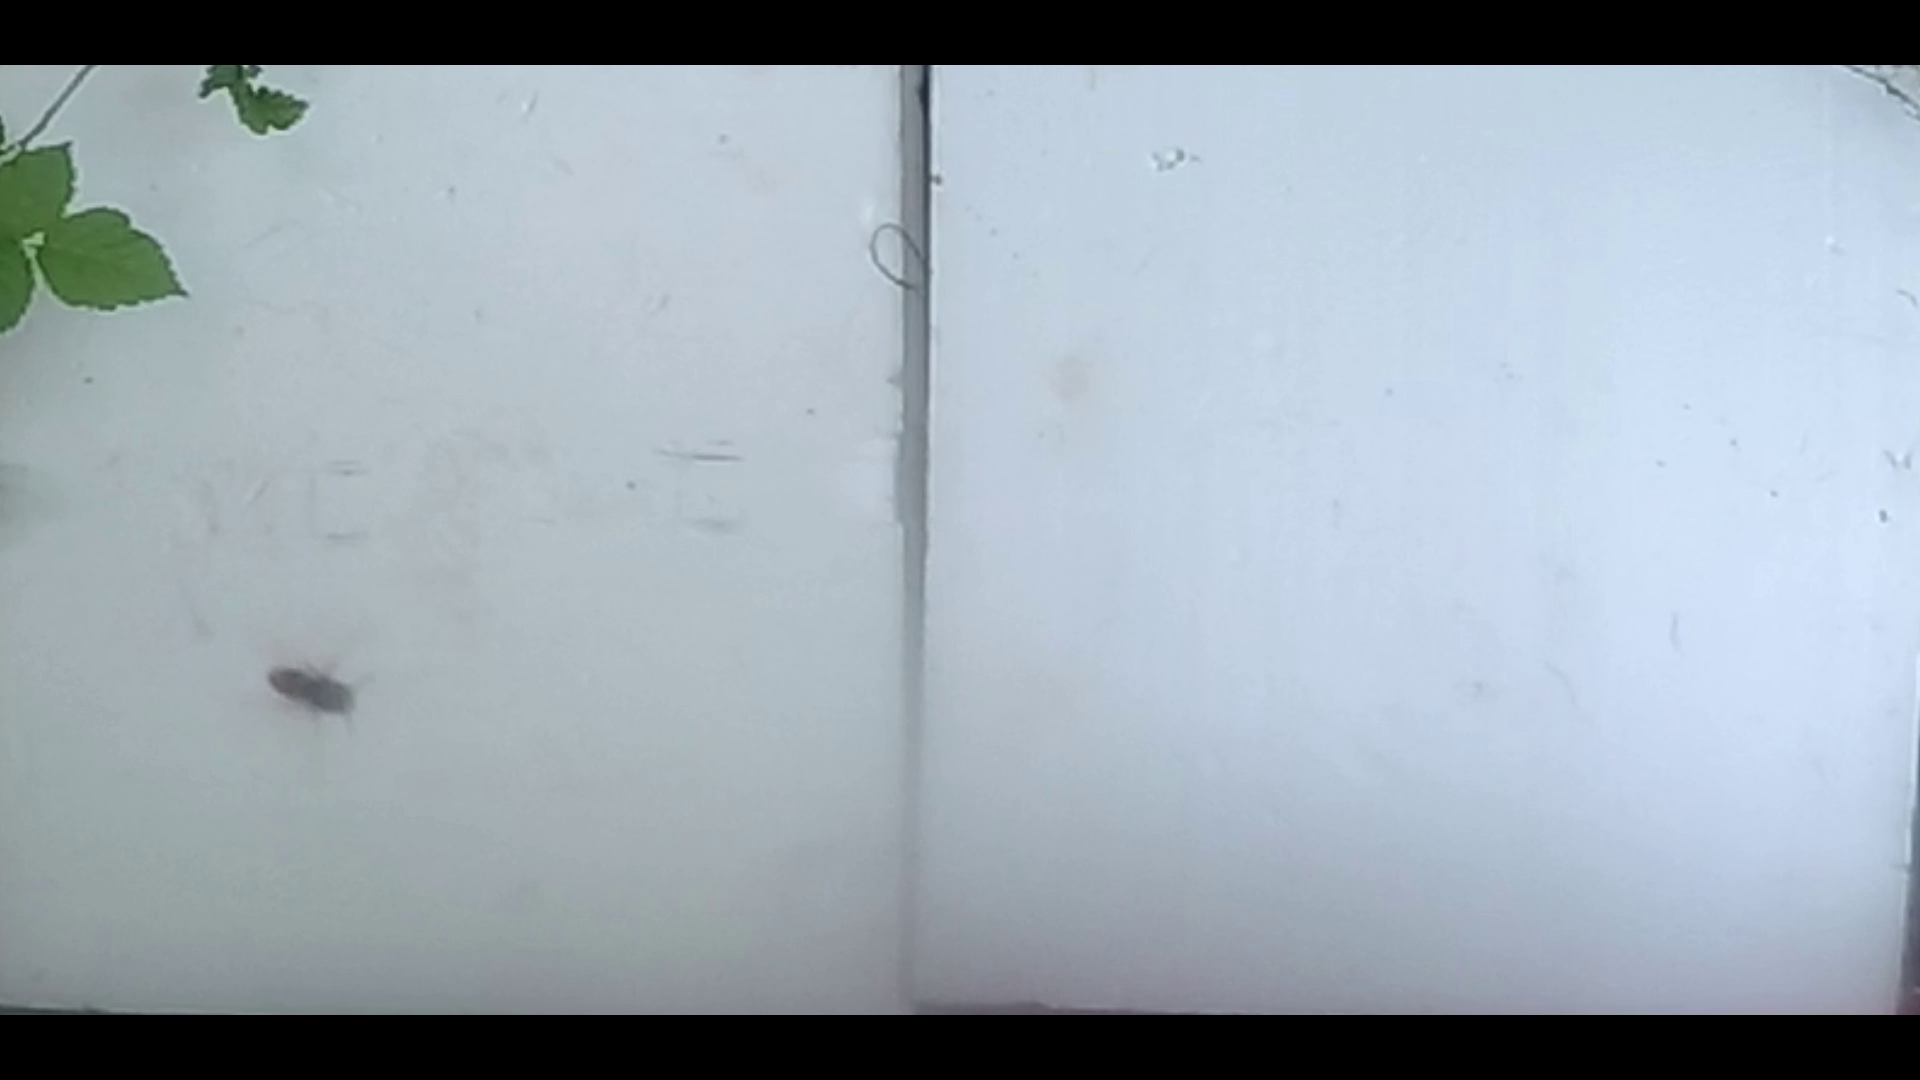Asian_hornets: (256, 645, 389, 758)
